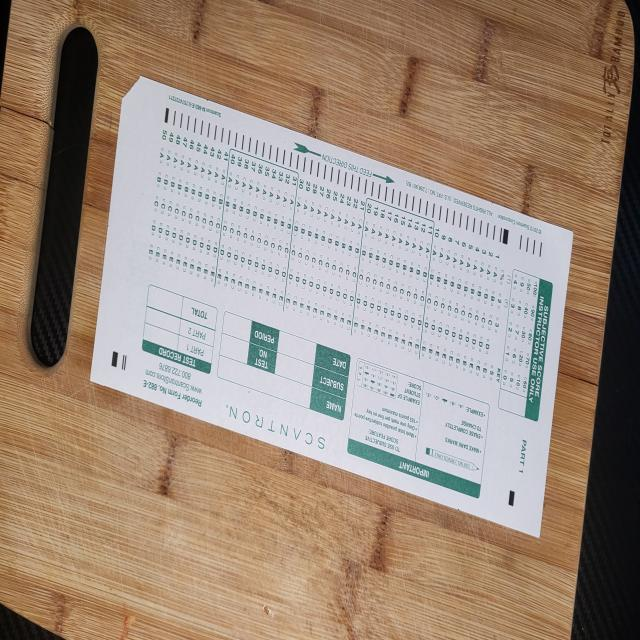scantron: (90, 75, 575, 539)
